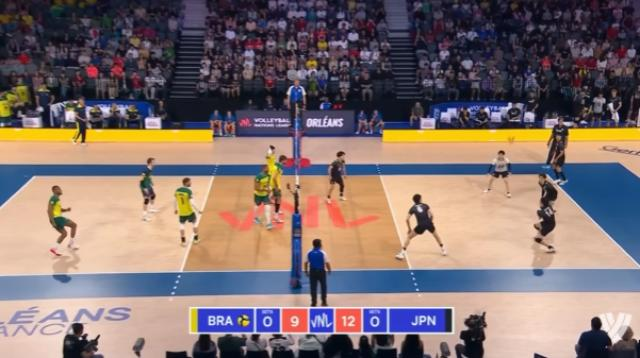Levantador: (173, 177, 205, 249), (324, 150, 356, 206)
Libero: (481, 149, 517, 201), (137, 158, 165, 220)
